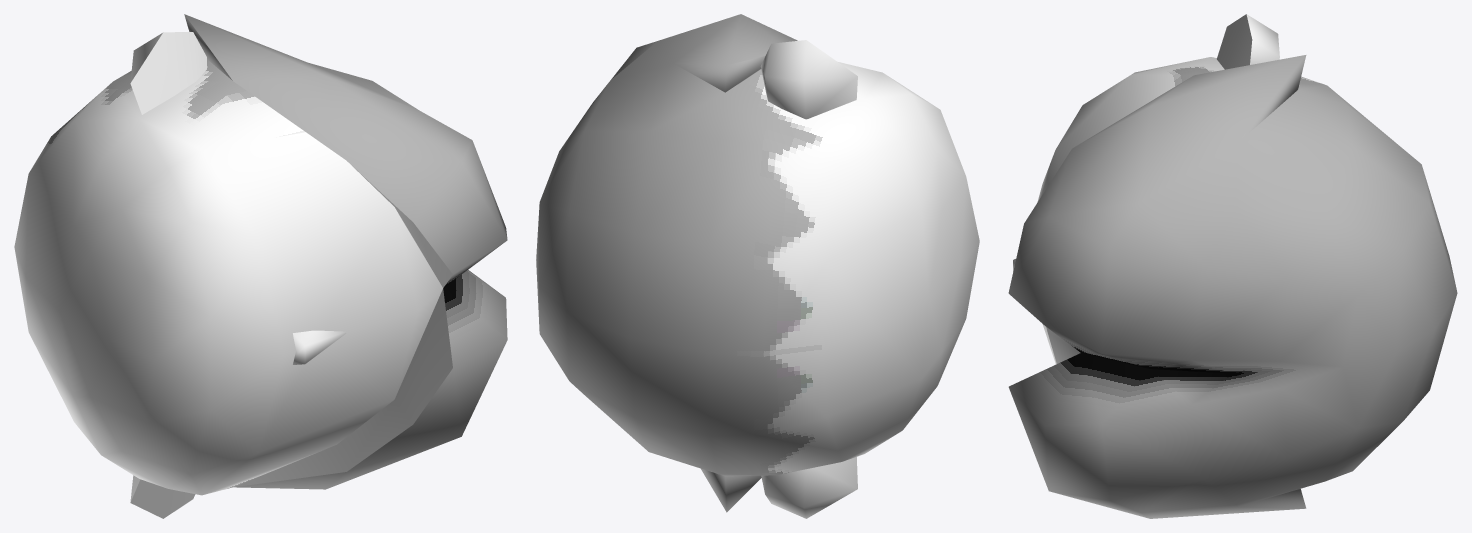
The model's file is boy04a.dae.
3 views of the same model, side by side, from view 1: azimuth 30°, elevation 25°; view 2: azimuth 150°, elevation 25°; view 3: azimuth 270°, elevation 25° (orthographic).
Parts seen in each view (by area): view 1: boy04a; view 2: boy04a; view 3: boy04a.
Part boxes in pixels (box(x1,y1,x2,y2)): boy04a: box(14, 14, 507, 518); boy04a: box(536, 14, 979, 518); boy04a: box(1008, 14, 1457, 518).
Size of the model in its own units: 22.1 by 26.71 by 22.37.
Materials: 3 (1 with a texture image).
